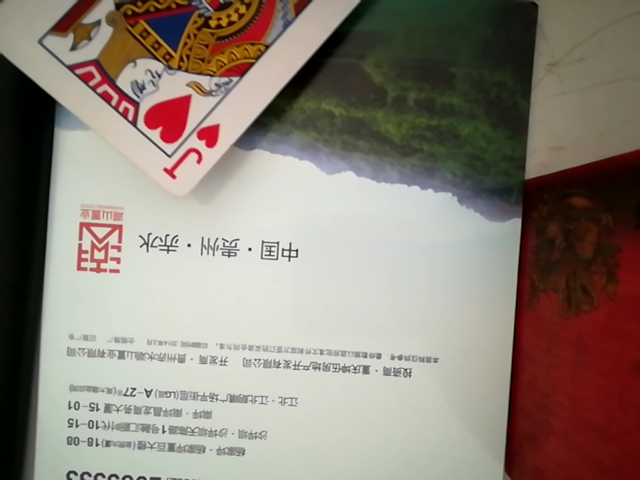hx j: (6, 0, 409, 198)
